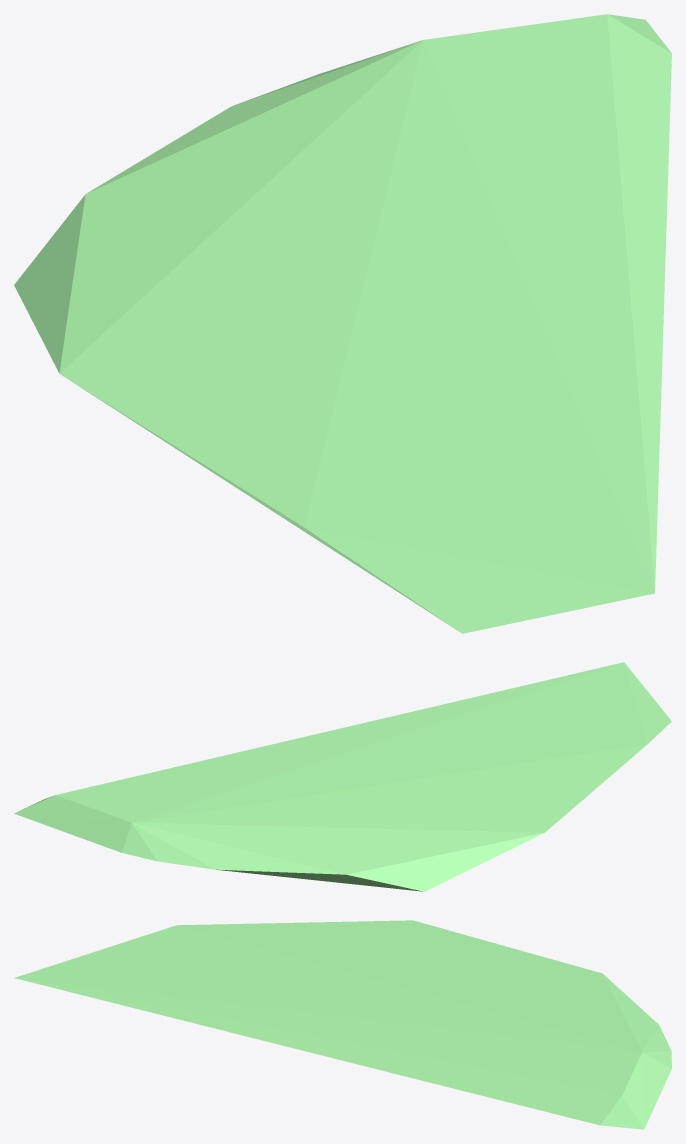
Rendered from linkhou_LR4_R560_link6_respondable_coll_5.dae.
3 views of the same model, one above another, from view 1: azimuth 30°, elevation 25°; view 2: azimuth 150°, elevation 25°; view 3: azimuth 270°, elevation 25° (orthographic). The views are drawn at different scales.
Visible parts, largest first — view 1: Node_0000029808434150; view 2: Node_0000029808434150; view 3: Node_0000029808434150.
Boxes of the visible parts, box(x1,y1,x2,y2) form: Node_0000029808434150: box(14, 14, 671, 633); Node_0000029808434150: box(14, 662, 671, 891); Node_0000029808434150: box(15, 920, 671, 1129).
Size of the model in its own units: 0.0481 by 0.00446 by 0.0641.
